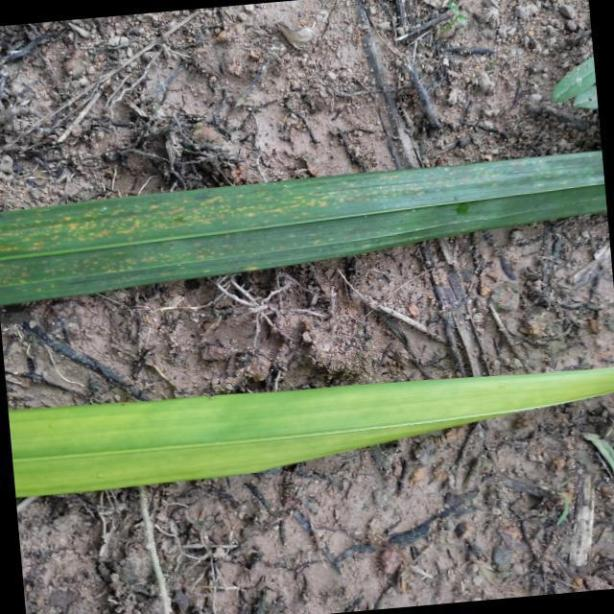nitrogen: (0, 149, 614, 307), (0, 363, 614, 499)
